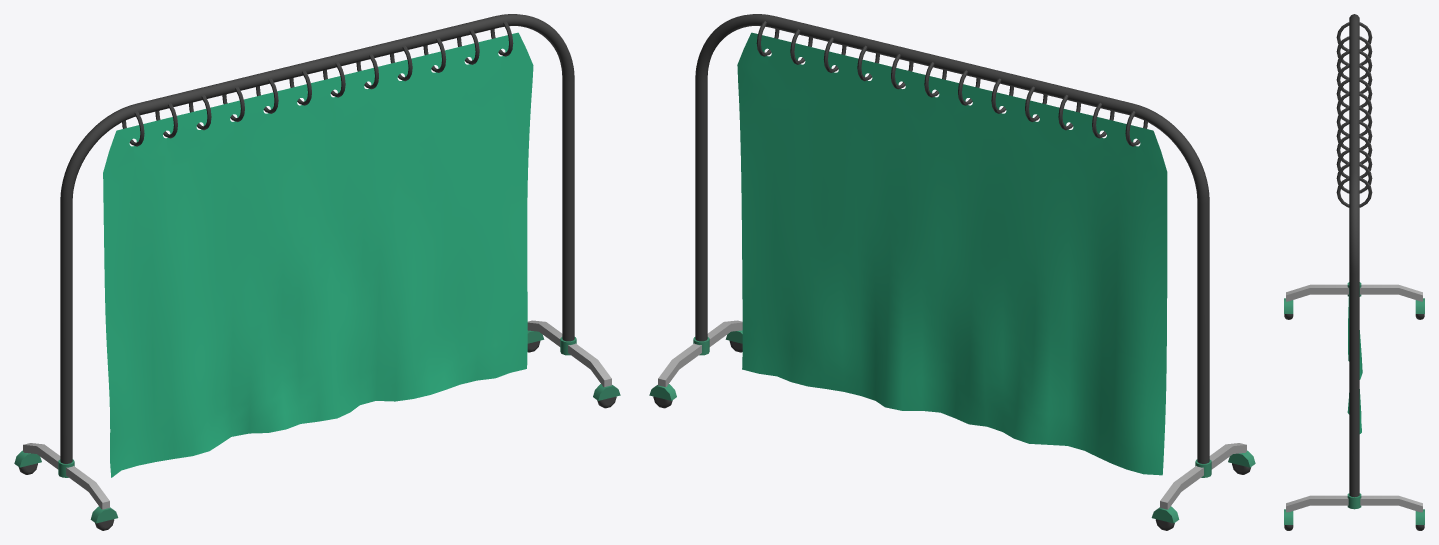
Rendered from Blind.fbx.
The picture shows the model from 3 angles, left to right: view 1: azimuth 30°, elevation 25°; view 2: azimuth 150°, elevation 25°; view 3: azimuth 270°, elevation 25°; orthographic projection. The views are drawn at different scales.
Parts seen in each view (by area): view 1: Boole_2, Sweep, Cube, Cylinder_1; view 2: Boole_2, Sweep, Cube, Cylinder_1; view 3: Sweep, Cube, Torus_2_2, Cylinder_1, Torus, Torus_2, Torus_1, Torus_3, Torus_4, Boole_2, Cylinder_2, Cylinder.
Boxes of the visible parts, left/top/right/bottom form: Boole_2: left=103, top=32, right=533, bottom=477; Sweep: left=60, top=14, right=574, bottom=463; Cube: left=23, top=320, right=611, bottom=509; Cylinder_1: left=14, top=330, right=620, bottom=523; Boole_2: left=737, top=32, right=1167, bottom=475; Sweep: left=695, top=14, right=1209, bottom=463; Cube: left=658, top=320, right=1246, bottom=509; Cylinder_1: left=649, top=330, right=1255, bottom=523; Sweep: left=1349, top=14, right=1359, bottom=497; Cube: left=1286, top=284, right=1422, bottom=512; Torus_2_2: left=1336, top=22, right=1372, bottom=207; Cylinder_1: left=1284, top=298, right=1424, bottom=524; Torus: left=1336, top=36, right=1372, bottom=193; Torus_2: left=1336, top=64, right=1372, bottom=164; Torus_1: left=1336, top=50, right=1372, bottom=178; Torus_3: left=1336, top=78, right=1372, bottom=149; Torus_4: left=1336, top=93, right=1372, bottom=135; Boole_2: left=1347, top=288, right=1362, bottom=433; Cylinder_2: left=1347, top=282, right=1361, bottom=509; Cylinder: left=1284, top=314, right=1424, bottom=530.
Bounding box in the file's own units: 293 × 203 × 78.88.
